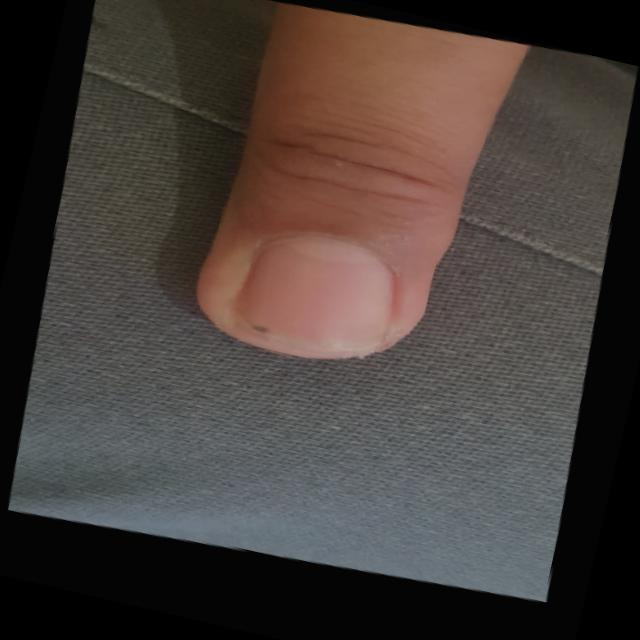Nail: (232, 230, 396, 347)
